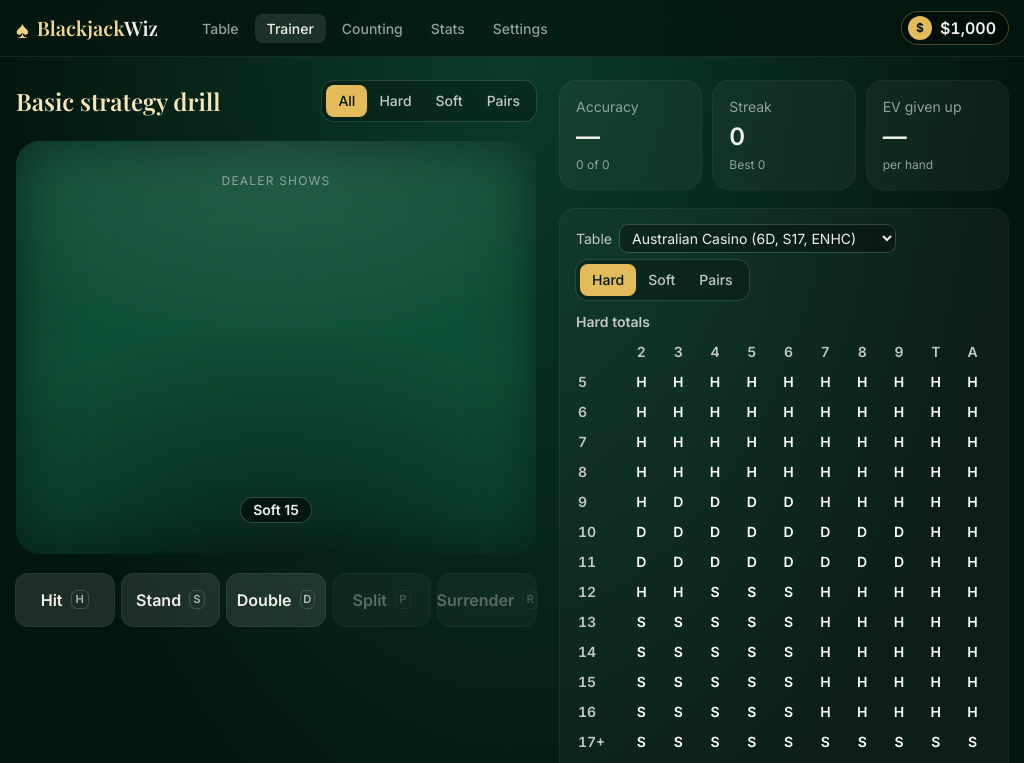
strategy trainer › grades a click and shows the EV of every option
Step 1. Click the button "Hit H" → (65, 600), box 16,574 -> 114,626
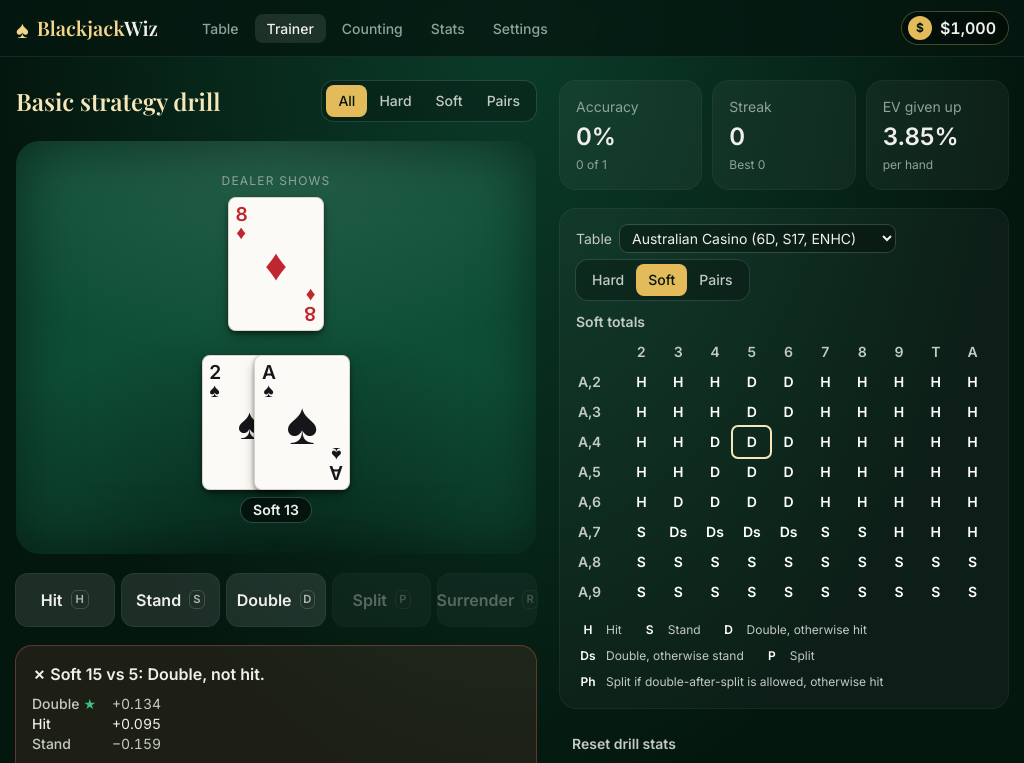
Expected: the table named "Expected value" is shown, 32,694 -> 161,754
